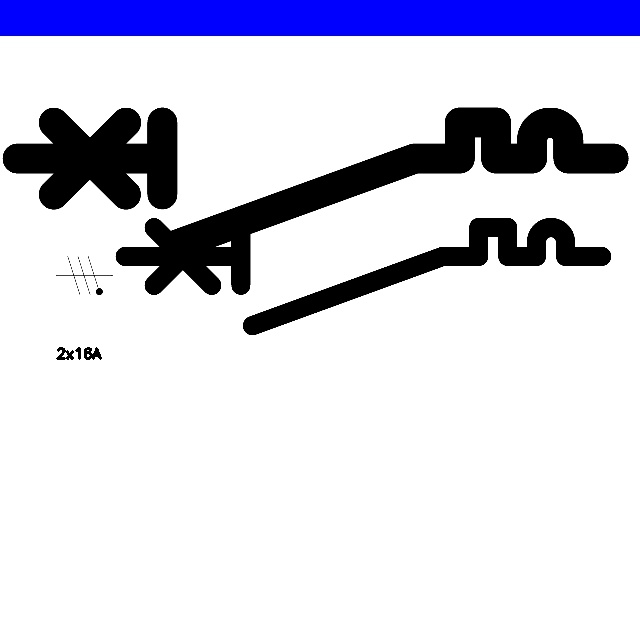interruptor_termomagnetico: (2, 107, 629, 260), (112, 215, 613, 337)
